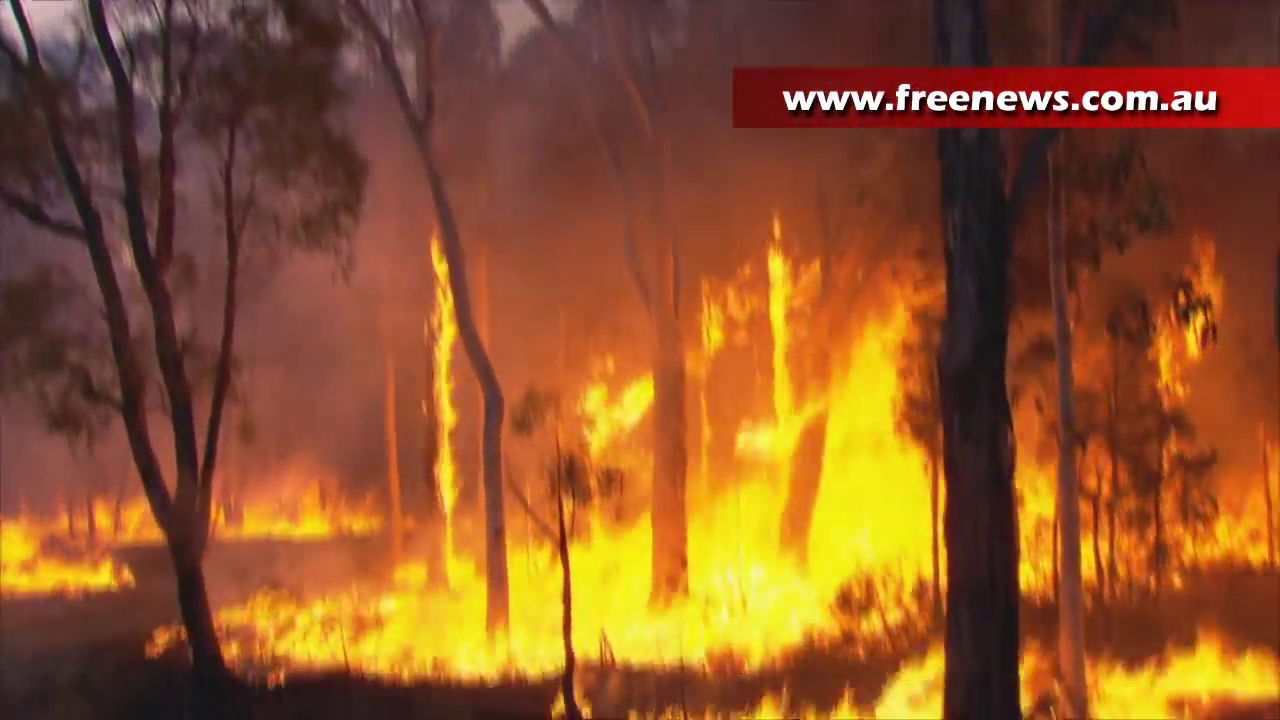fire: (236, 298, 944, 676), (1083, 642, 1280, 720), (755, 648, 939, 720), (4, 508, 142, 592), (1160, 241, 1217, 376), (243, 486, 377, 541), (430, 277, 457, 506), (1188, 509, 1280, 568), (700, 272, 758, 356), (586, 374, 654, 432), (773, 236, 794, 417)
